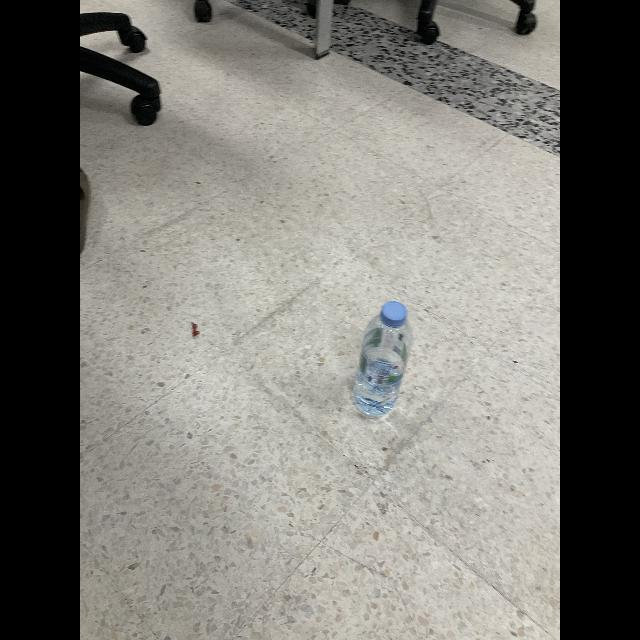plastic_bottle: (352, 300, 412, 422)
plastic_bottle_cap: (380, 301, 408, 329)
